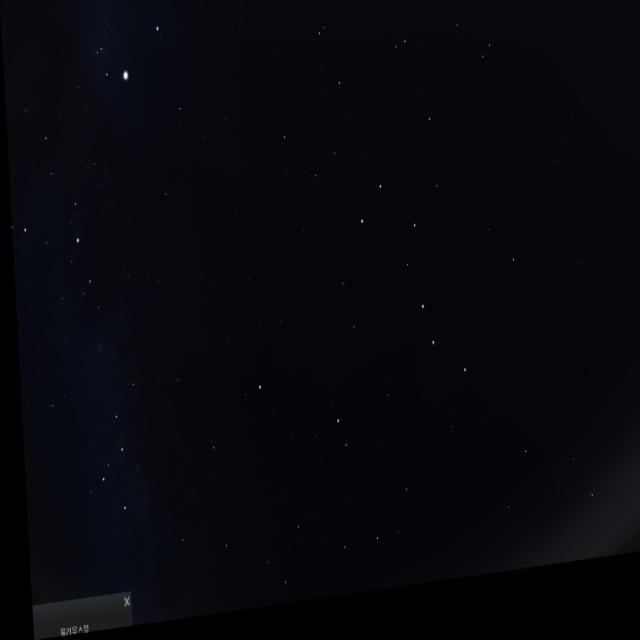cassiopeia: (89, 363, 171, 537)
ursa_major: (351, 174, 467, 412)
